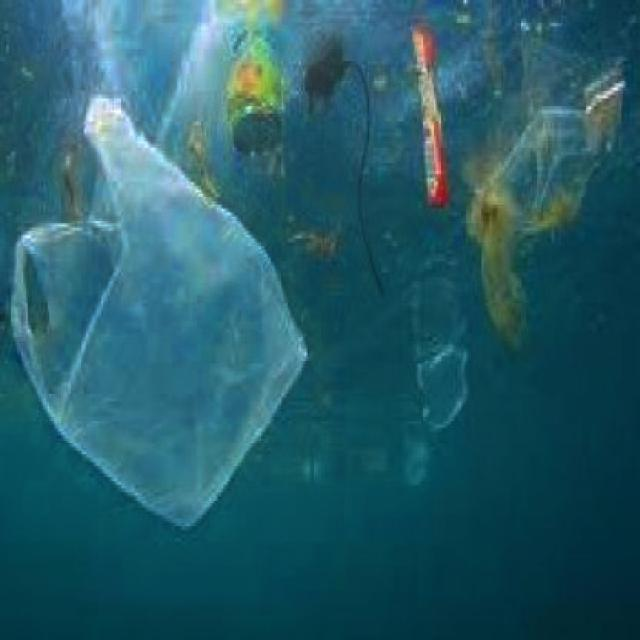can: (229, 16, 286, 156)
pbag: (13, 87, 312, 530)
